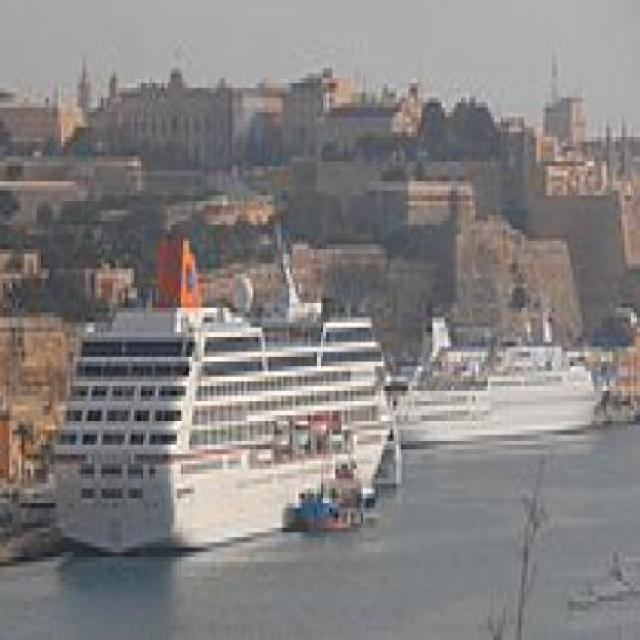cruise: (47, 230, 410, 563), (376, 304, 614, 460)
